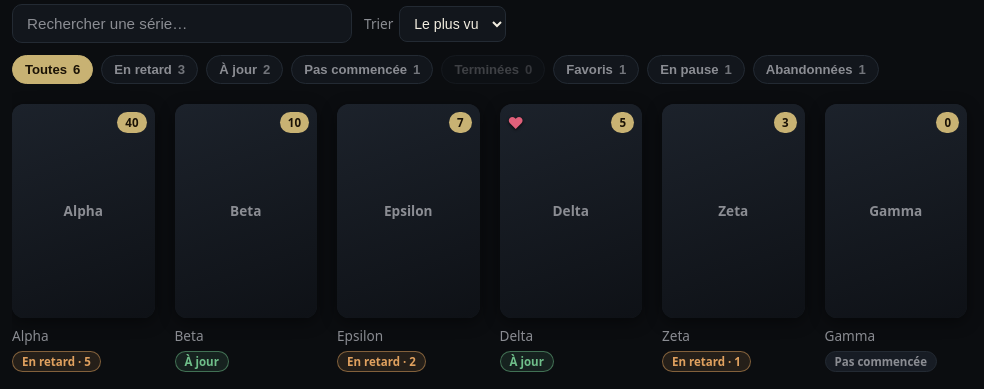
Test: SeriesGrid › montre un message plutôt qu'une grille vide
In the search field with placeholder "Rechercher une série…": (182,24) [12,4,352,43], type "introuvable"
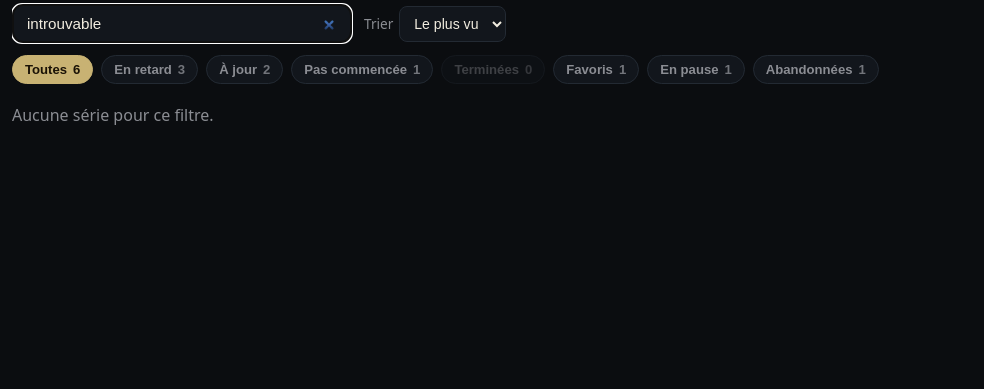
Result: the text "Aucune série pour ce filtre." is shown at [12,104,214,126]
Result: no links are shown
